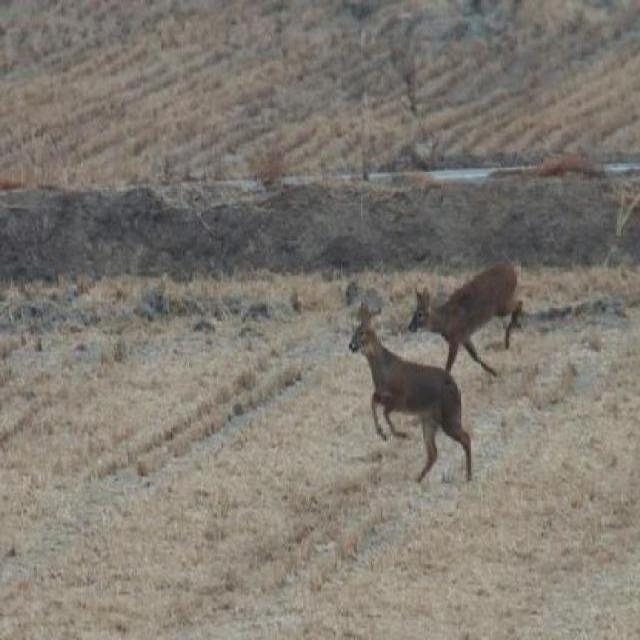deer: (348, 302, 478, 493), (408, 253, 524, 384)
